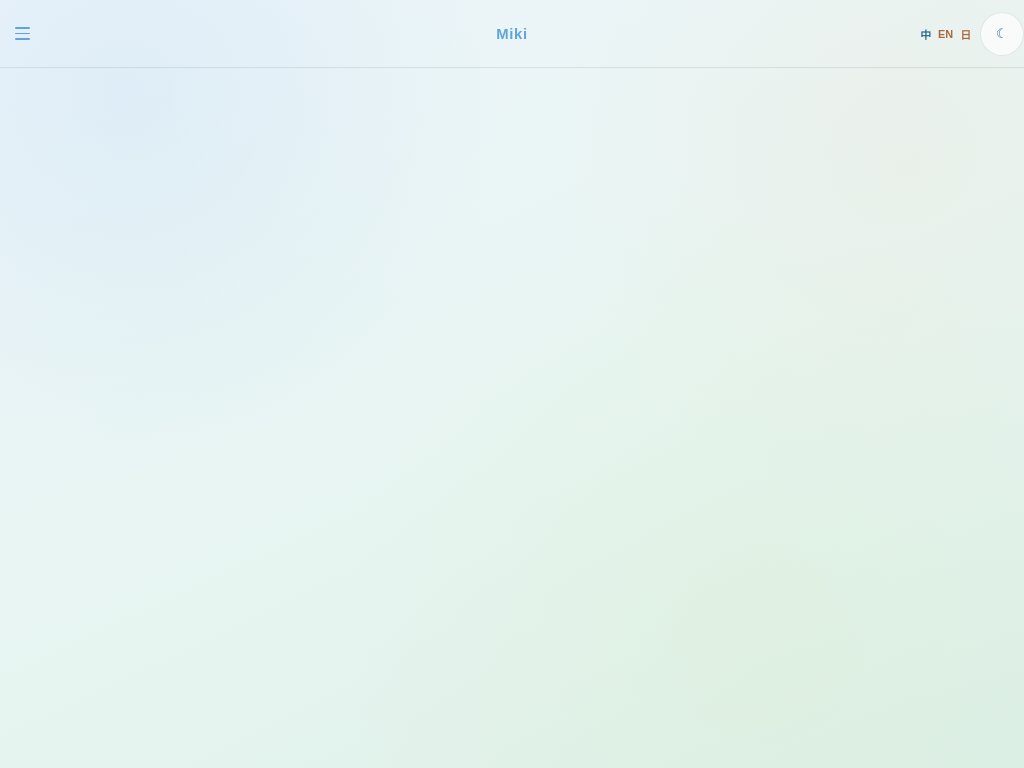
SiteHeader › closes the drawer with Escape or its background and marks the active page
The image size is (1024, 768).
Click the button named "開啟選單" at (22, 34), box x1=0 y1=12 x2=44 y2=56
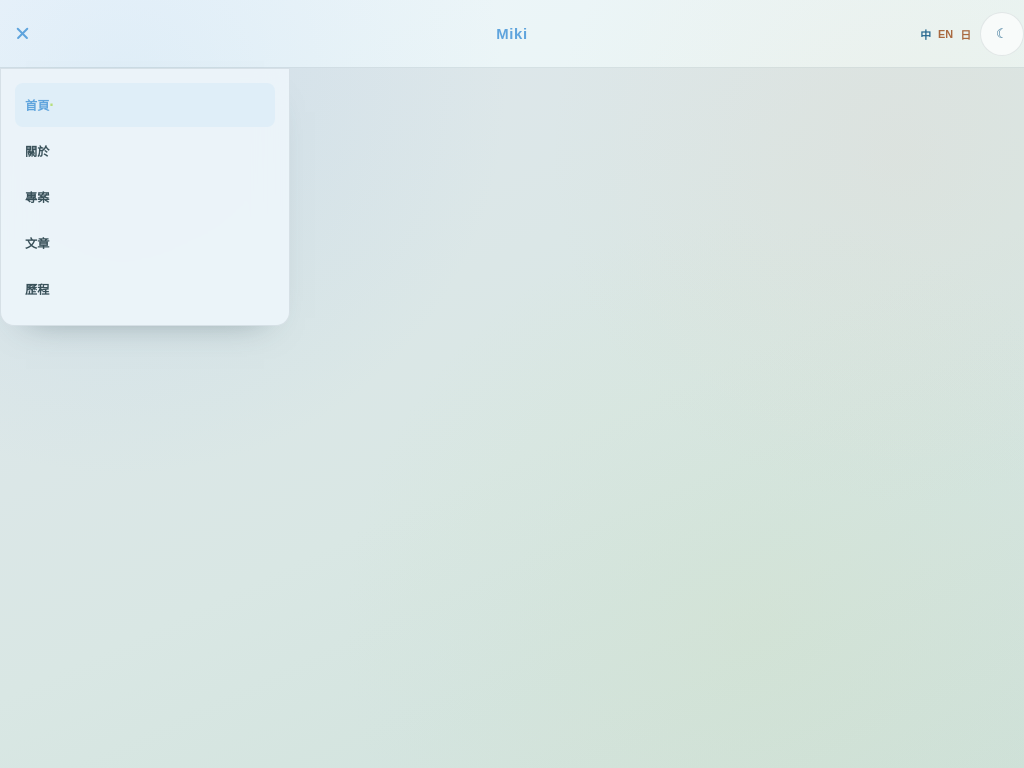
Press Escape
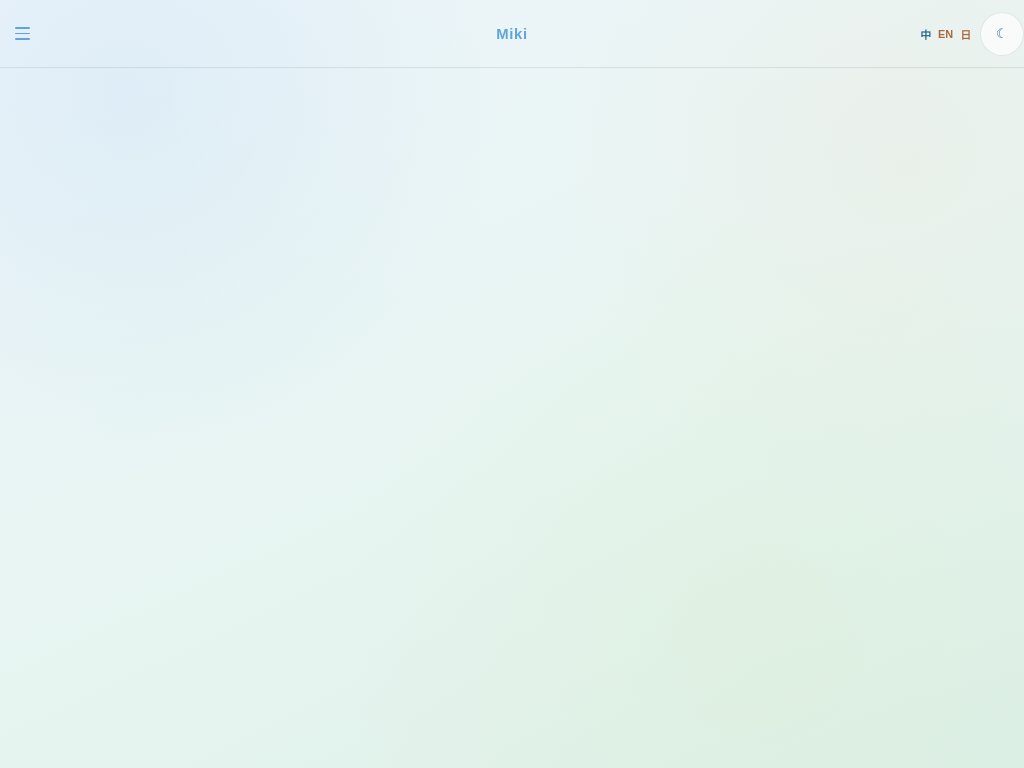
Expected: the navigation bar with class "site-menu" is gone
Click the button named "開啟選單" at (22, 34), box x1=0 y1=12 x2=44 y2=56
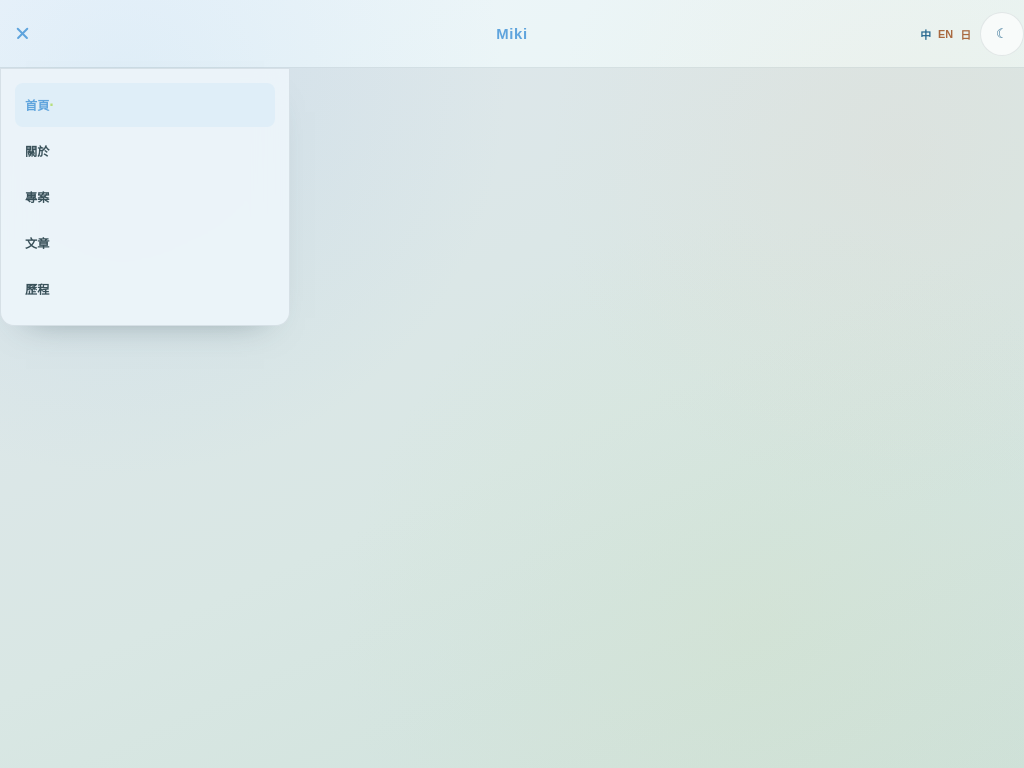
Click the button with class "menu-scrim" at (512, 418), box x1=0 y1=68 x2=1023 y2=767
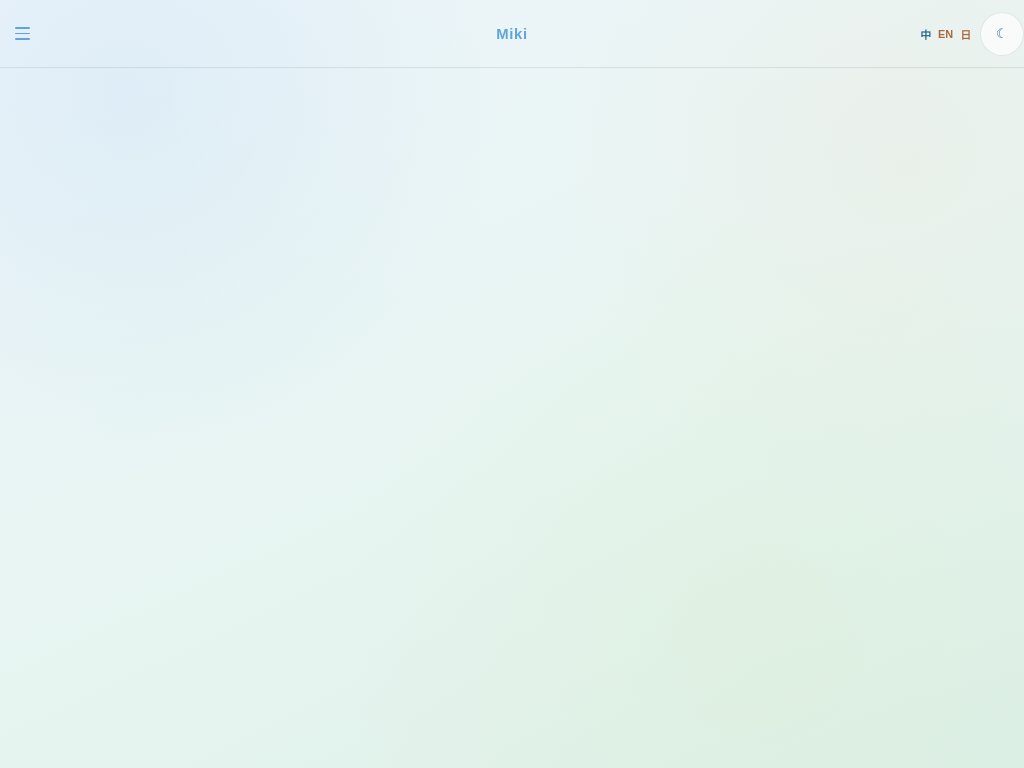
Expected: the navigation bar with class "site-menu" is gone
